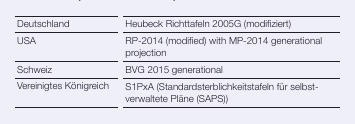table: (0, 0, 355, 124)
